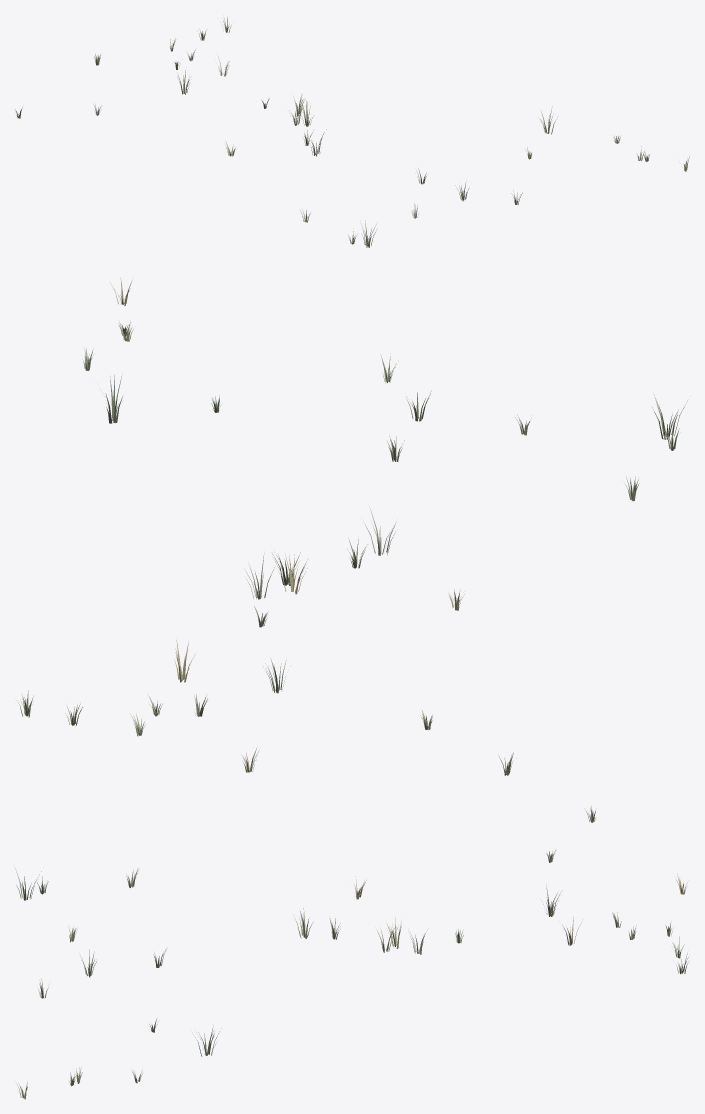
The model's file is AE_Grass_3_0.fbx.
3 views of the same model, one above another, from view 1: azimuth 30°, elevation 25°; view 2: azimuth 150°, elevation 25°; view 3: azimuth 270°, elevation 25° (orthographic). The views are drawn at different scales.
Visible parts, largest first — view 1: AE_Grass_3_0_LOD0; view 2: AE_Grass_3_0_LOD0; view 3: AE_Grass_3_0_LOD0.
Boxes of the visible parts, bbox=[...] form: AE_Grass_3_0_LOD0: bbox=[15, 17, 689, 247]; AE_Grass_3_0_LOD0: bbox=[18, 277, 687, 775]; AE_Grass_3_0_LOD0: bbox=[15, 806, 688, 1099].
Size of what is drawn, in the model's own units: 1793 by 108 by 1801.
